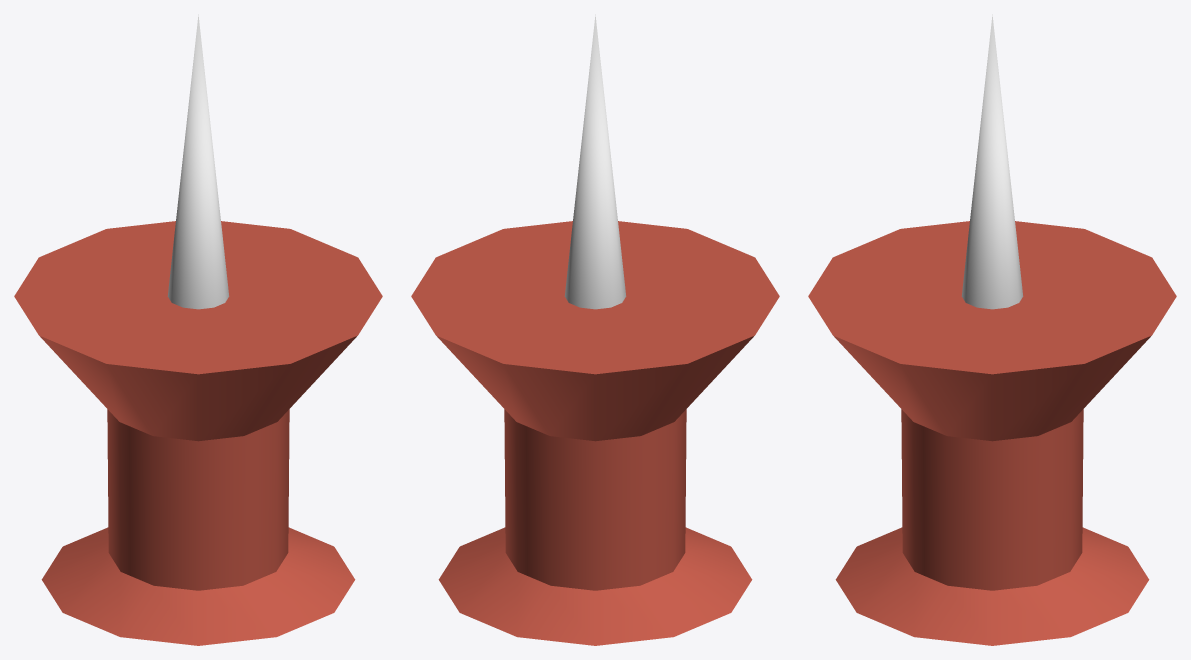
File: thumbtack.glb
3 renders of one model, left to right at view 1: azimuth 30°, elevation 25°; view 2: azimuth 150°, elevation 25°; view 3: azimuth 270°, elevation 25°, orthographic.
Visible parts, largest first — view 1: Cylinder; view 2: Cylinder; view 3: Cylinder.
Part boxes in pixels (left/top/right/bottom): Cylinder: left=14, top=14, right=382, bottom=645; Cylinder: left=411, top=14, right=779, bottom=645; Cylinder: left=808, top=14, right=1176, bottom=645.
Bounding box in the file's own units: 1.18 × 1.99 × 1.18.
